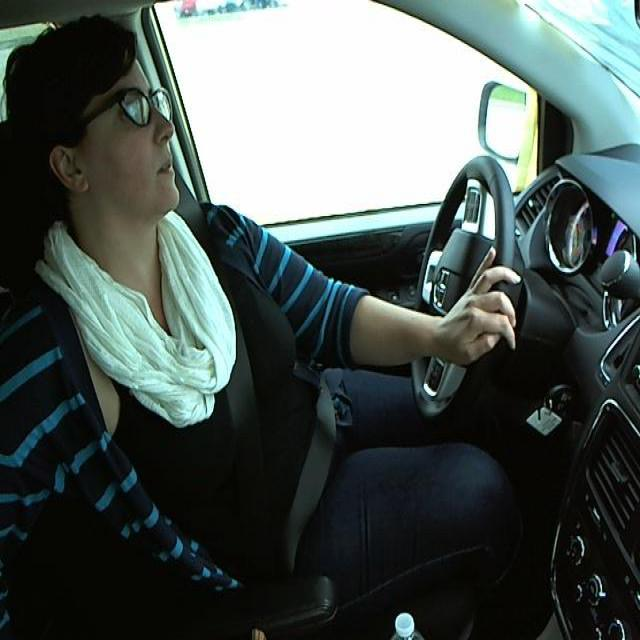seatbelt: (180, 227, 331, 564)
